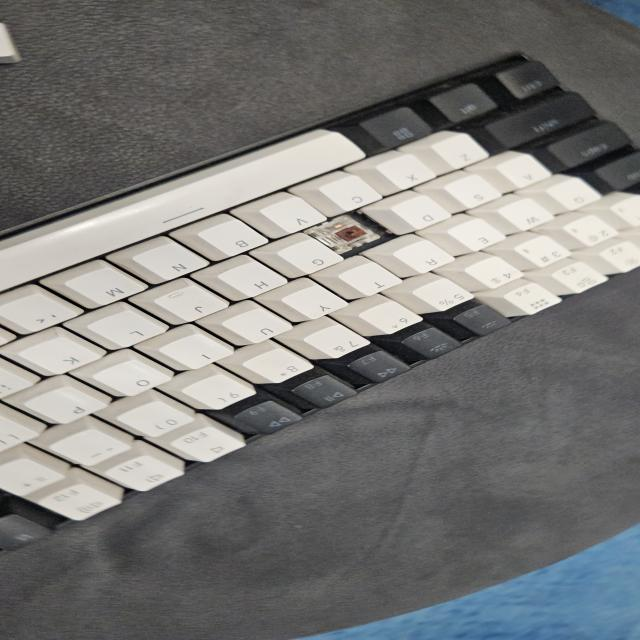C: (324, 222, 378, 244)
